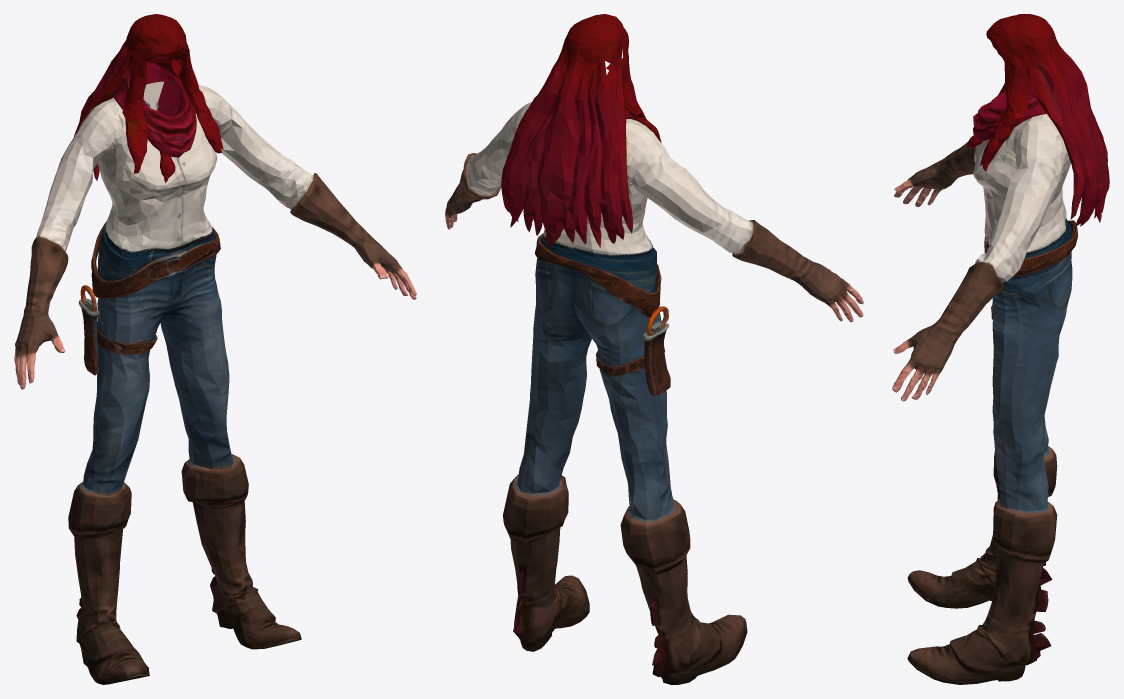
The model's file is ewm_t2cowgirl_outfit.glb.
The picture shows the model from 3 angles, left to right: view 1: azimuth 30°, elevation 25°; view 2: azimuth 150°, elevation 25°; view 3: azimuth 270°, elevation 25°; orthographic projection. The views are drawn at different scales.
Parts seen in each view (by area): view 1: ewm_t2cowgirl_outfit; view 2: ewm_t2cowgirl_outfit; view 3: ewm_t2cowgirl_outfit.
Part boxes in pixels (<box>): ewm_t2cowgirl_outfit: <box>14,14,416,684</box>; ewm_t2cowgirl_outfit: <box>445,14,863,684</box>; ewm_t2cowgirl_outfit: <box>892,14,1109,684</box>.
Bounding box in the file's own units: 1.25 × 1.88 × 0.5928.
Materials: 1 (1 with a texture image).
